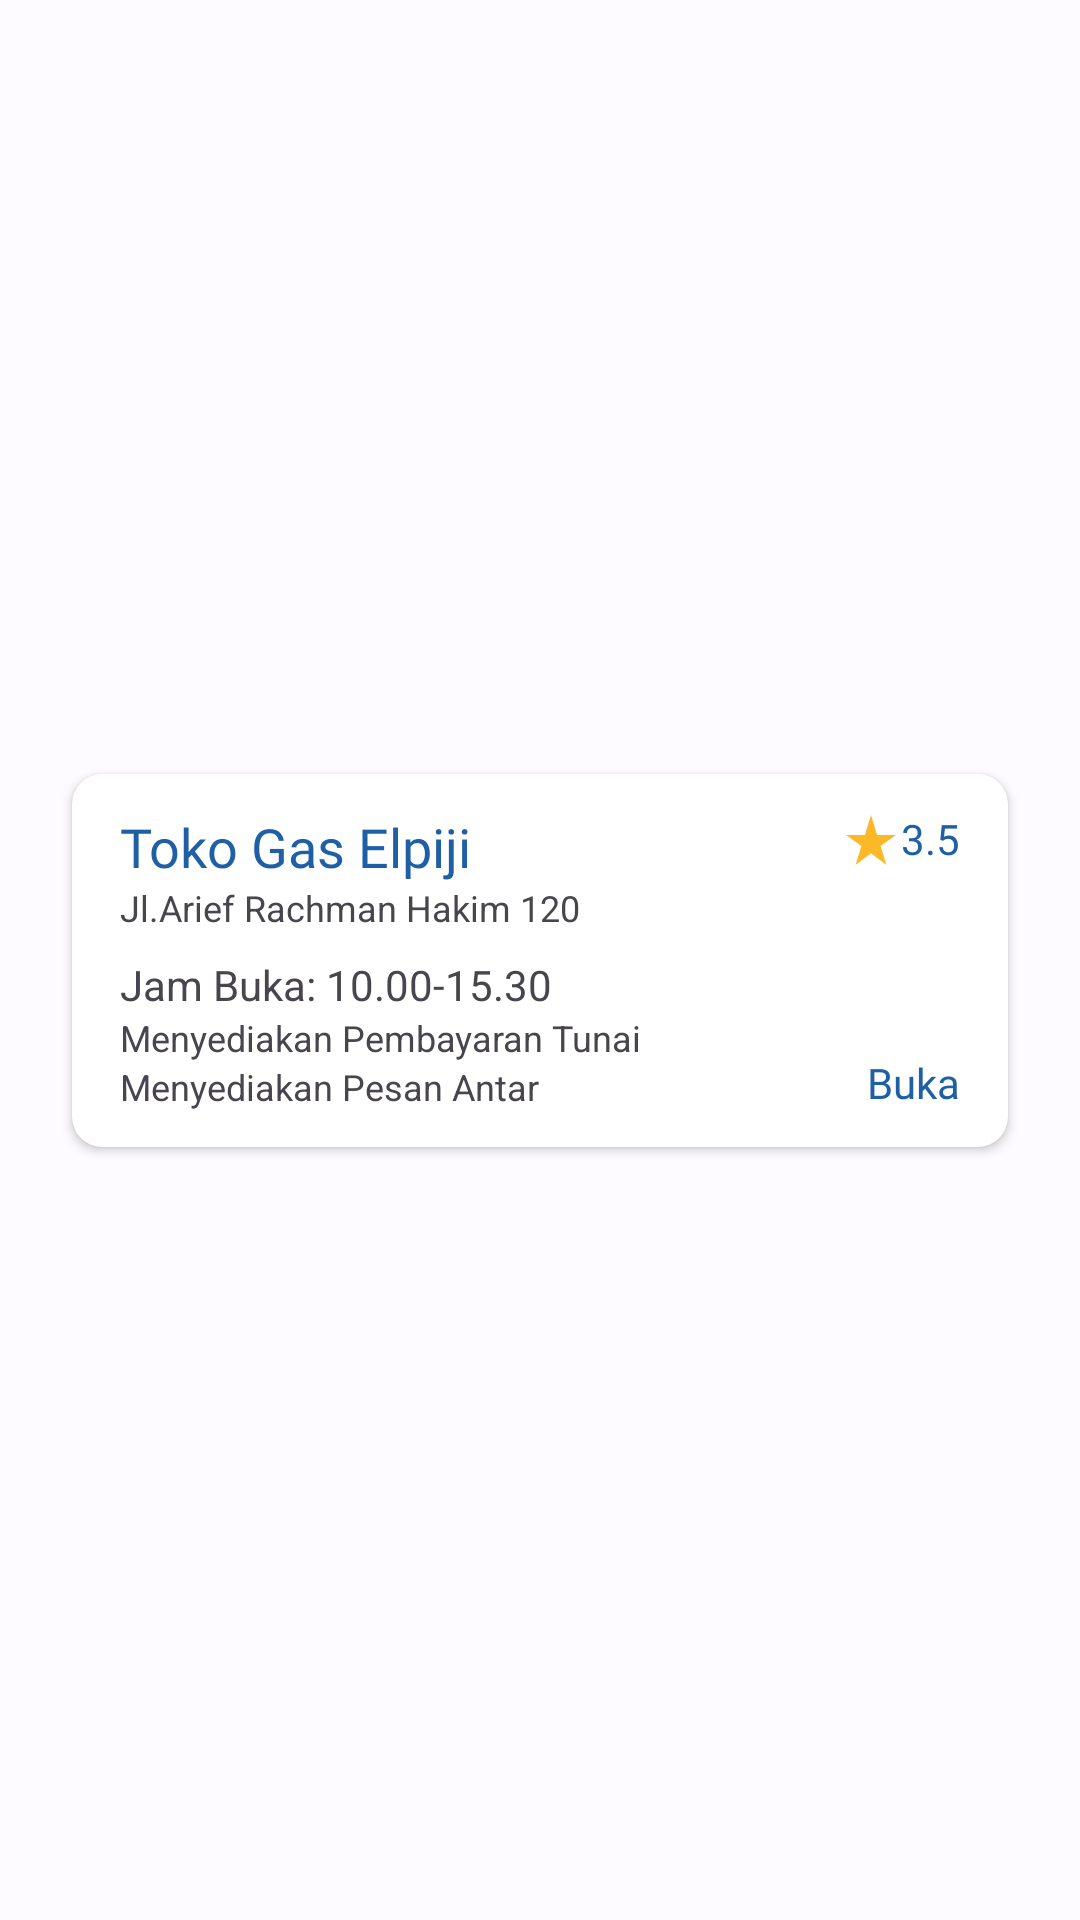

Screen size 1080*1920. Icon name, then its box in pixels as (x1, y1, x2, y2):
star rate: (846, 815, 896, 865)
